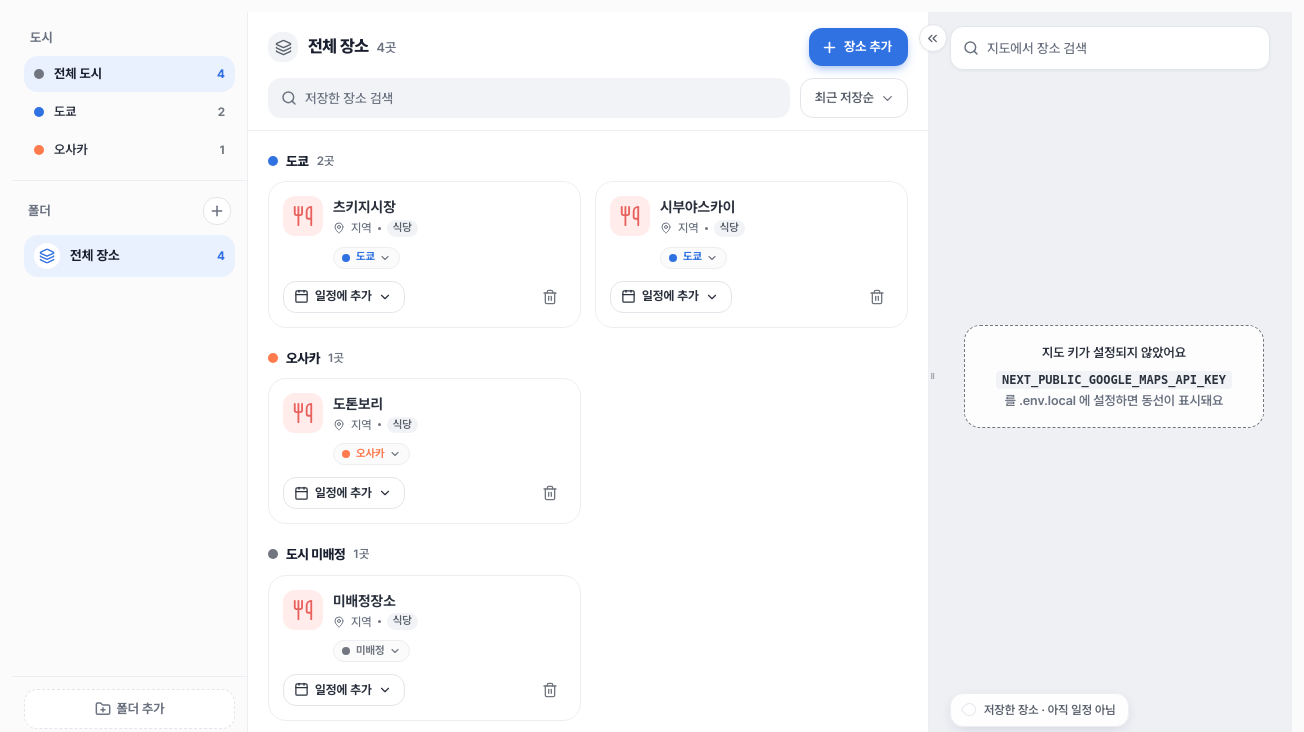
Test: PlacesView — 다중 도시 도시 축 › 카드에 도시 이동 메뉴가 있고 열린다
The image size is (1304, 732).
Expected: the text "도톤보리" is shown, [333, 395, 383, 412]
Step 1. Click the button with aria-label "도시 이동" → (366, 258), box [333, 247, 400, 269]
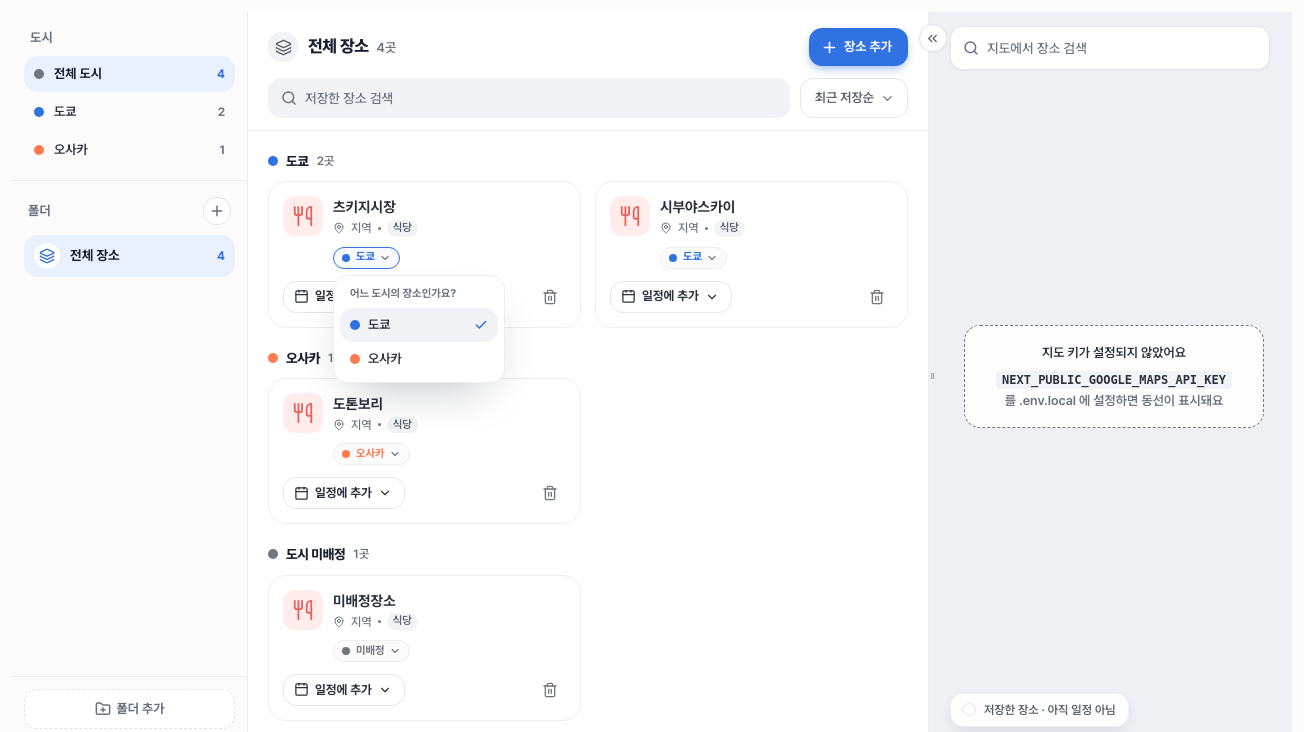
Now the text "어느 도시의 장소인가요?" is shown, box [350, 287, 456, 300]
